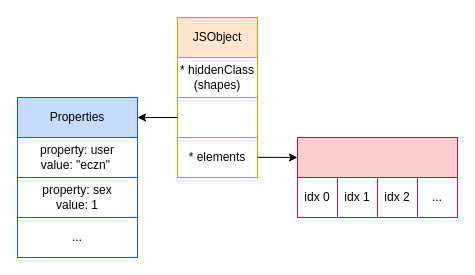
Image size: 475x275. Some labels were removed from this diagram. The shapes that lost their labels are listed below. From the top down, each one's box as (x1, y1, x2, y2) in pixels, then its label:
(176, 96, 258, 138): * properties
(296, 136, 458, 178): Elements
